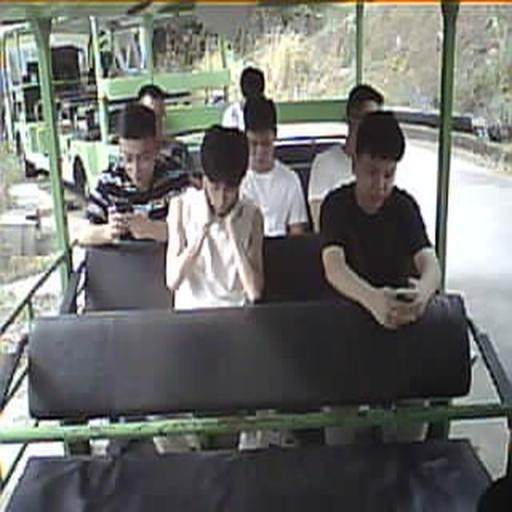persona: (318, 109, 442, 330), (164, 124, 266, 310), (84, 103, 196, 240), (308, 83, 386, 235), (238, 94, 311, 238), (134, 83, 196, 172), (221, 66, 267, 132)
